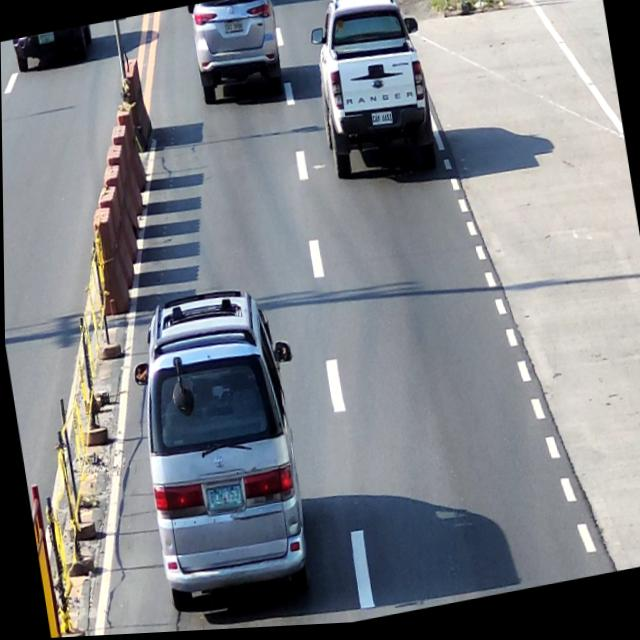Car: (123, 281, 328, 627), (302, 0, 440, 199), (188, 0, 286, 109)
License-Plate: (205, 485, 241, 513), (223, 21, 244, 37), (371, 114, 392, 130)
